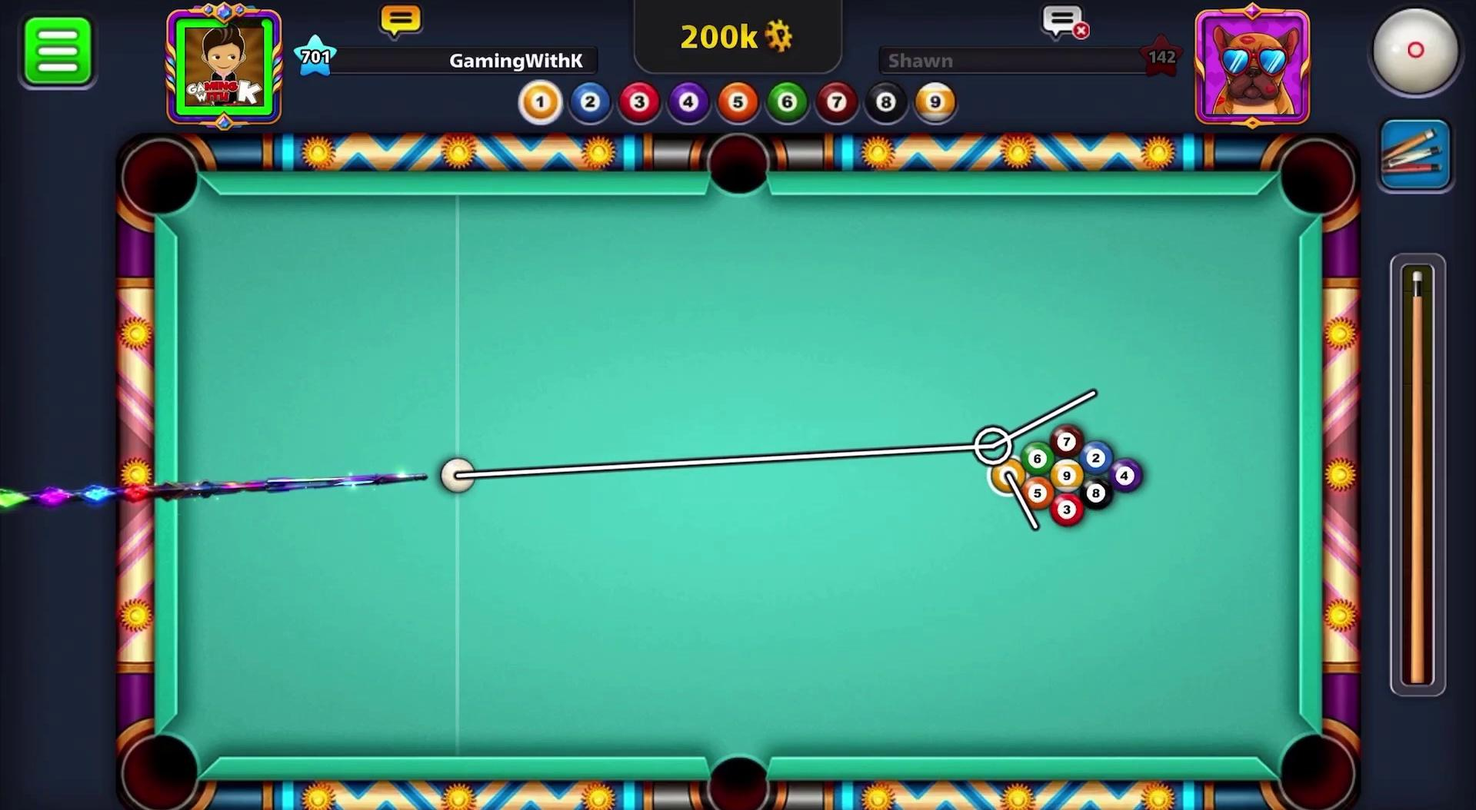Ball: (1046, 421, 1088, 460), (1048, 460, 1088, 494), (1108, 456, 1144, 493), (1019, 474, 1055, 510), (1018, 439, 1054, 475), (990, 459, 1027, 494), (1077, 475, 1112, 510), (1081, 437, 1114, 474), (1053, 492, 1084, 528)
Force: (1386, 252, 1453, 708)
Guideline: (456, 379, 1107, 543)
Hole: (108, 128, 214, 229), (1269, 131, 1365, 230), (1265, 716, 1364, 809), (111, 724, 208, 809), (685, 736, 785, 809), (700, 123, 778, 204)
Play_Area: (178, 194, 1299, 761)
Spin: (1345, 0, 1475, 111)
White: (428, 453, 477, 498)
